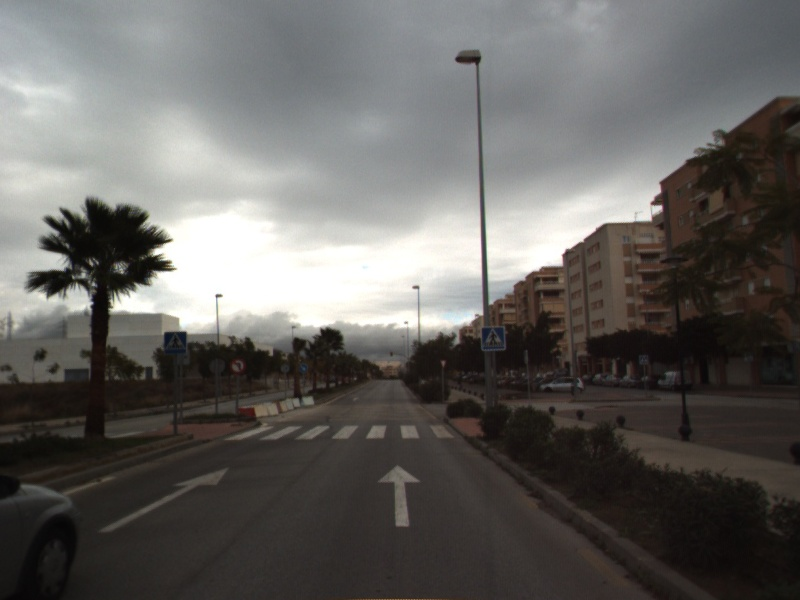STRAIGHT: (96, 465, 232, 535), (375, 462, 423, 529)
